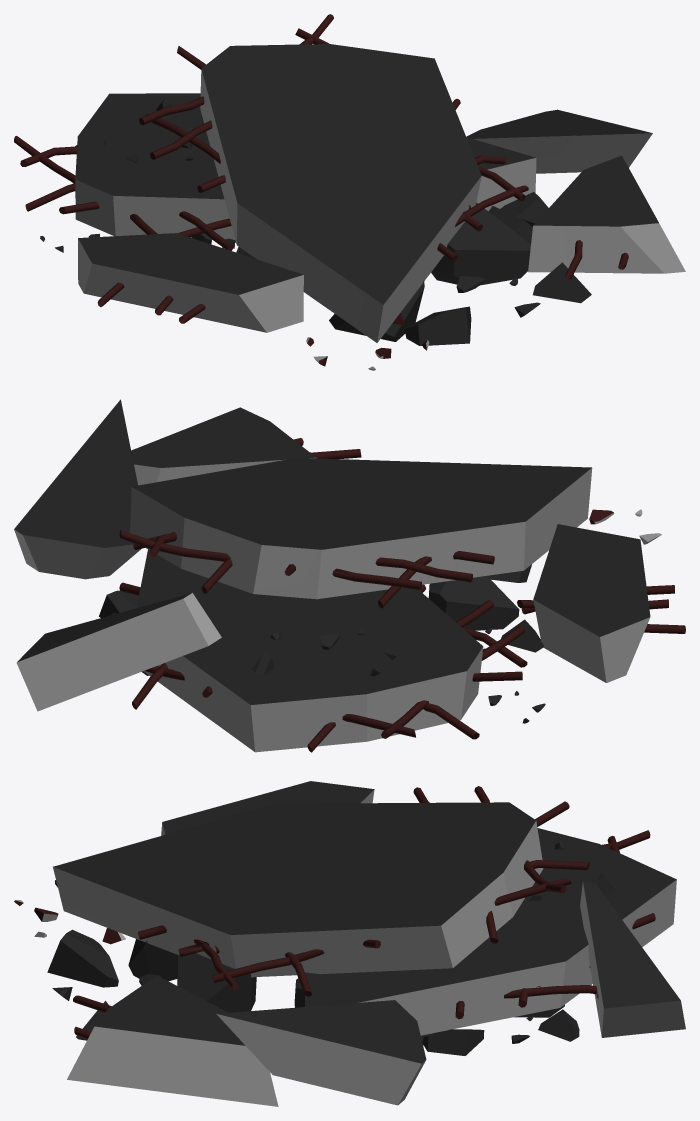
Rendered from P_DebrisGros.fbx.
3 views of the same model, one above another, from view 1: azimuth 30°, elevation 25°; view 2: azimuth 150°, elevation 25°; view 3: azimuth 270°, elevation 25° (orthographic). The views are drawn at different scales.
Parts seen in each view (by area): view 1: P_DebrisGros; view 2: P_DebrisGros; view 3: P_DebrisGros.
Part boxes in pixels (x1,y1,x2,y2): P_DebrisGros: (14,14,685,370); P_DebrisGros: (14,399,685,752); P_DebrisGros: (14,781,685,1106).
Bounding box in the file's own units: 158 × 42.72 × 156.
